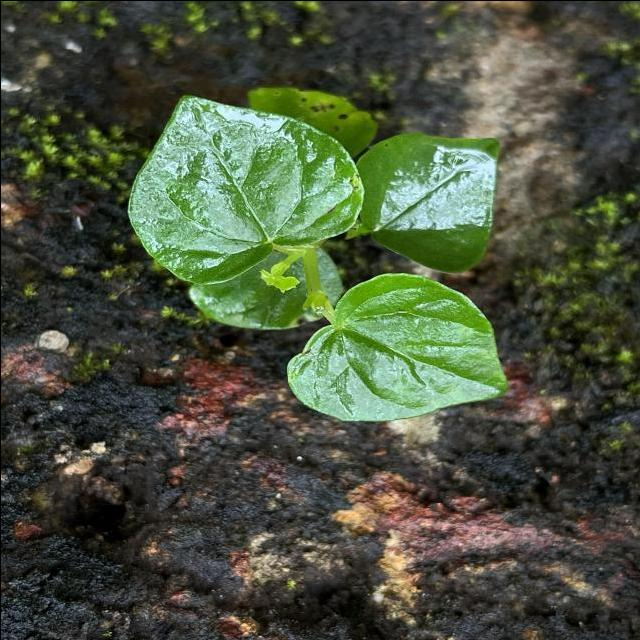Peperomia pellucida: (123, 90, 365, 286), (284, 270, 511, 422)
